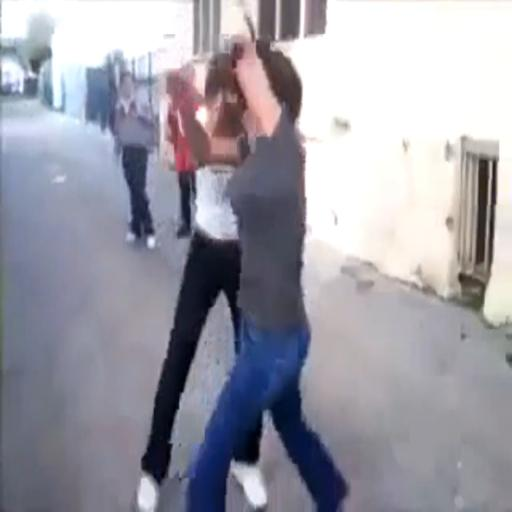violencia: (132, 0, 355, 512)
